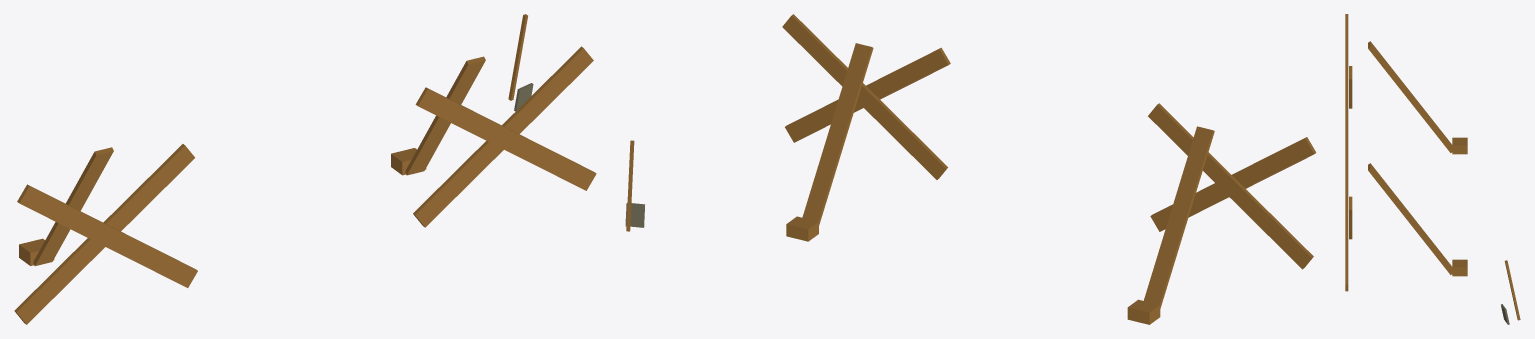
File: SM_ObraPuertaApuntalada_v0_10m_LOD0.fbx
The picture shows the model from 3 angles, left to right: view 1: azimuth 30°, elevation 25°; view 2: azimuth 150°, elevation 25°; view 3: azimuth 270°, elevation 25°; orthographic projection. The views are drawn at different scales.
Parts seen in each view (by area): view 1: SM_obra_curso_v31_LOD0; view 2: SM_obra_curso_v31_LOD0; view 3: SM_obra_curso_v31_LOD0.
Boxes of the visible parts, box(x1,y1,x2,y2) form: SM_obra_curso_v31_LOD0: box(14, 14, 596, 324); SM_obra_curso_v31_LOD0: box(625, 14, 1316, 324); SM_obra_curso_v31_LOD0: box(1345, 14, 1520, 324).
Size of the model in its own units: 7.94 by 1.92 by 2.83.
